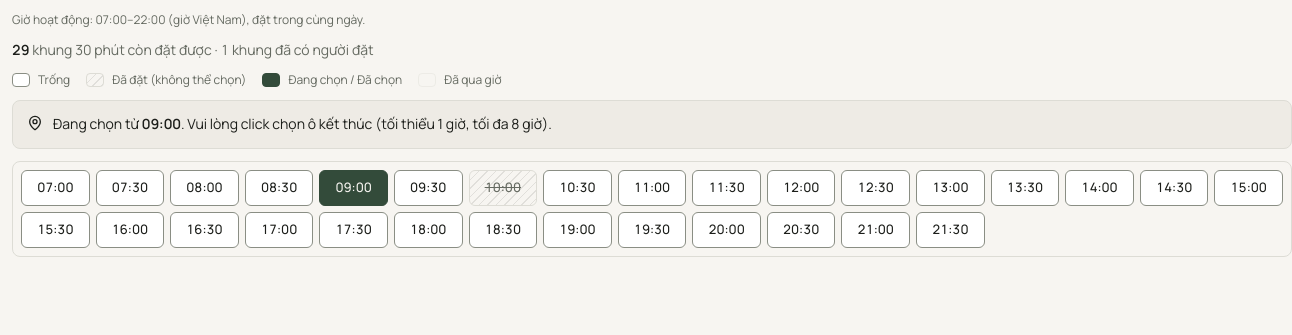
Test: TimeGrid component › AC2: Click chọn slot cập nhật start/end time › rejects range crossing a BOOKED slot
# Try selecting end at 11:00 (slot 21: 10:30 - 11:00)
Click the button with test id "time-slot-10:30".
click(577, 188)  # box 543,170 -> 612,206
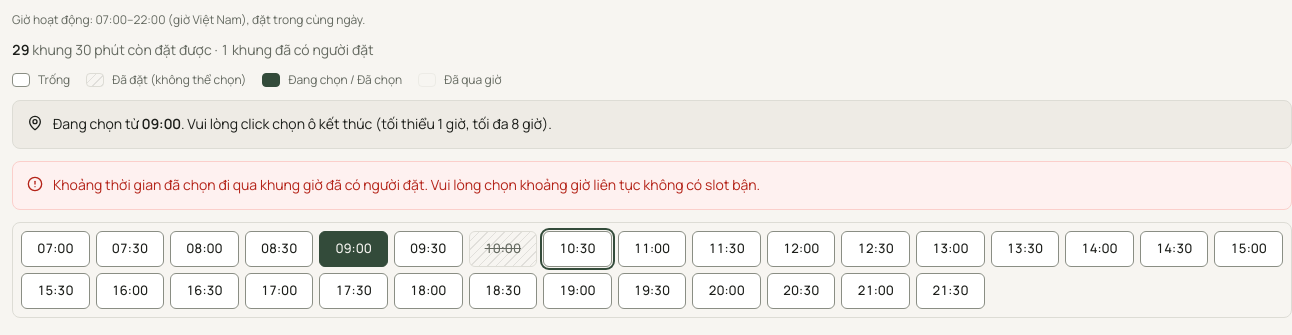
Check: the message with test id "time-grid-error" shows "Khoảng thời gian đã chọn đi qua khung giờ đã có người đặt", box 53,175 -> 760,194
